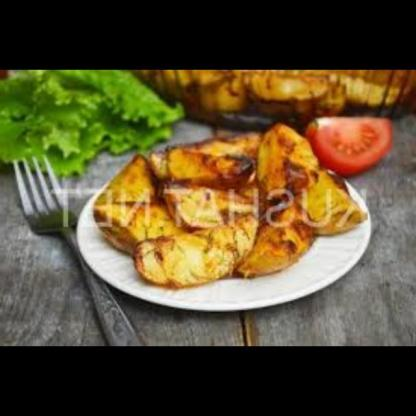potato: (86, 118, 370, 288)
salad: (0, 68, 186, 178)
tomato: (303, 104, 404, 172)
